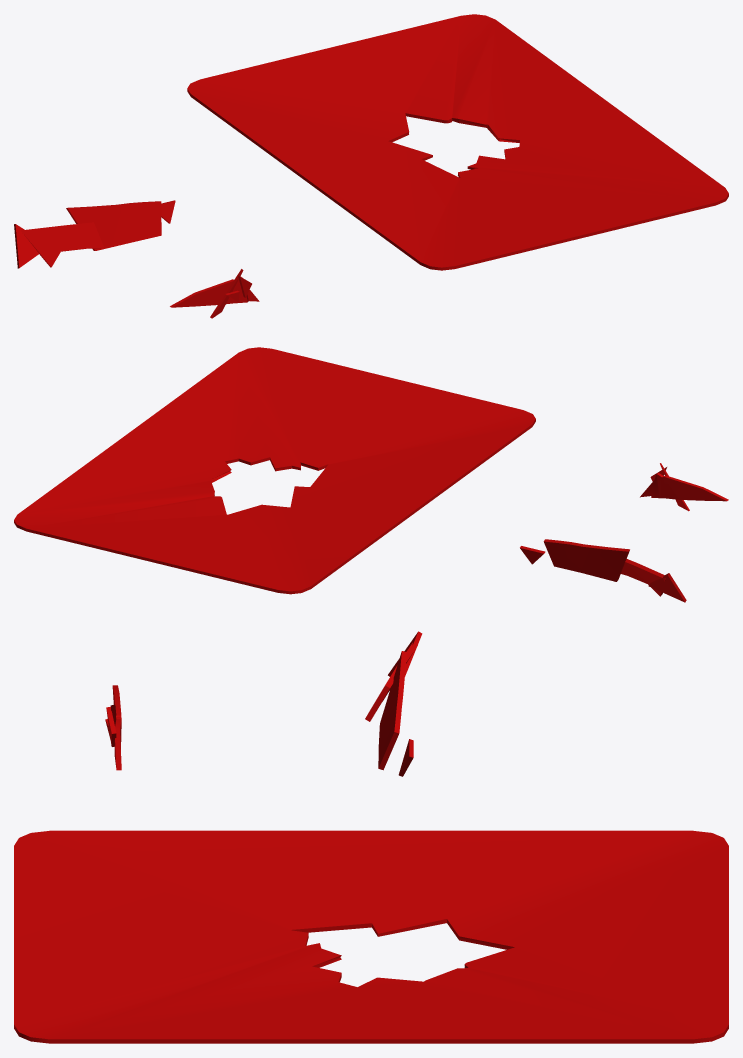
The model's file is BKGlass_GA.fbx.
The picture shows the model from 3 angles, top to bottom: view 1: azimuth 30°, elevation 25°; view 2: azimuth 150°, elevation 25°; view 3: azimuth 270°, elevation 25°; orthographic projection. The views are drawn at different scales.
Visible parts, largest first — view 1: BrockenGlass_high, GlassesPiece01_high, GlassesPiece02_high; view 2: BrockenGlass_high, GlassesPiece01_high, GlassesPiece02_high; view 3: BrockenGlass_high, GlassesPiece01_high, GlassesPiece02_high.
Boxes of the visible parts, x1=… form: BrockenGlass_high: x1=187, y1=14, x2=728, y2=270; GlassesPiece01_high: x1=14, y1=200, x2=175, y2=268; GlassesPiece02_high: x1=170, y1=269, x2=259, y2=318; BrockenGlass_high: x1=14, y1=347, x2=535, y2=594; GlassesPiece01_high: x1=520, y1=539, x2=686, y2=602; GlassesPiece02_high: x1=640, y1=463, x2=728, y2=511; BrockenGlass_high: x1=14, y1=830, x2=728, y2=1043; GlassesPiece01_high: x1=365, y1=631, x2=422, y2=776; GlassesPiece02_high: x1=105, y1=685, x2=121, y2=770.
Size of the model in its own units: 85.43 by 6.78 by 64.45.
